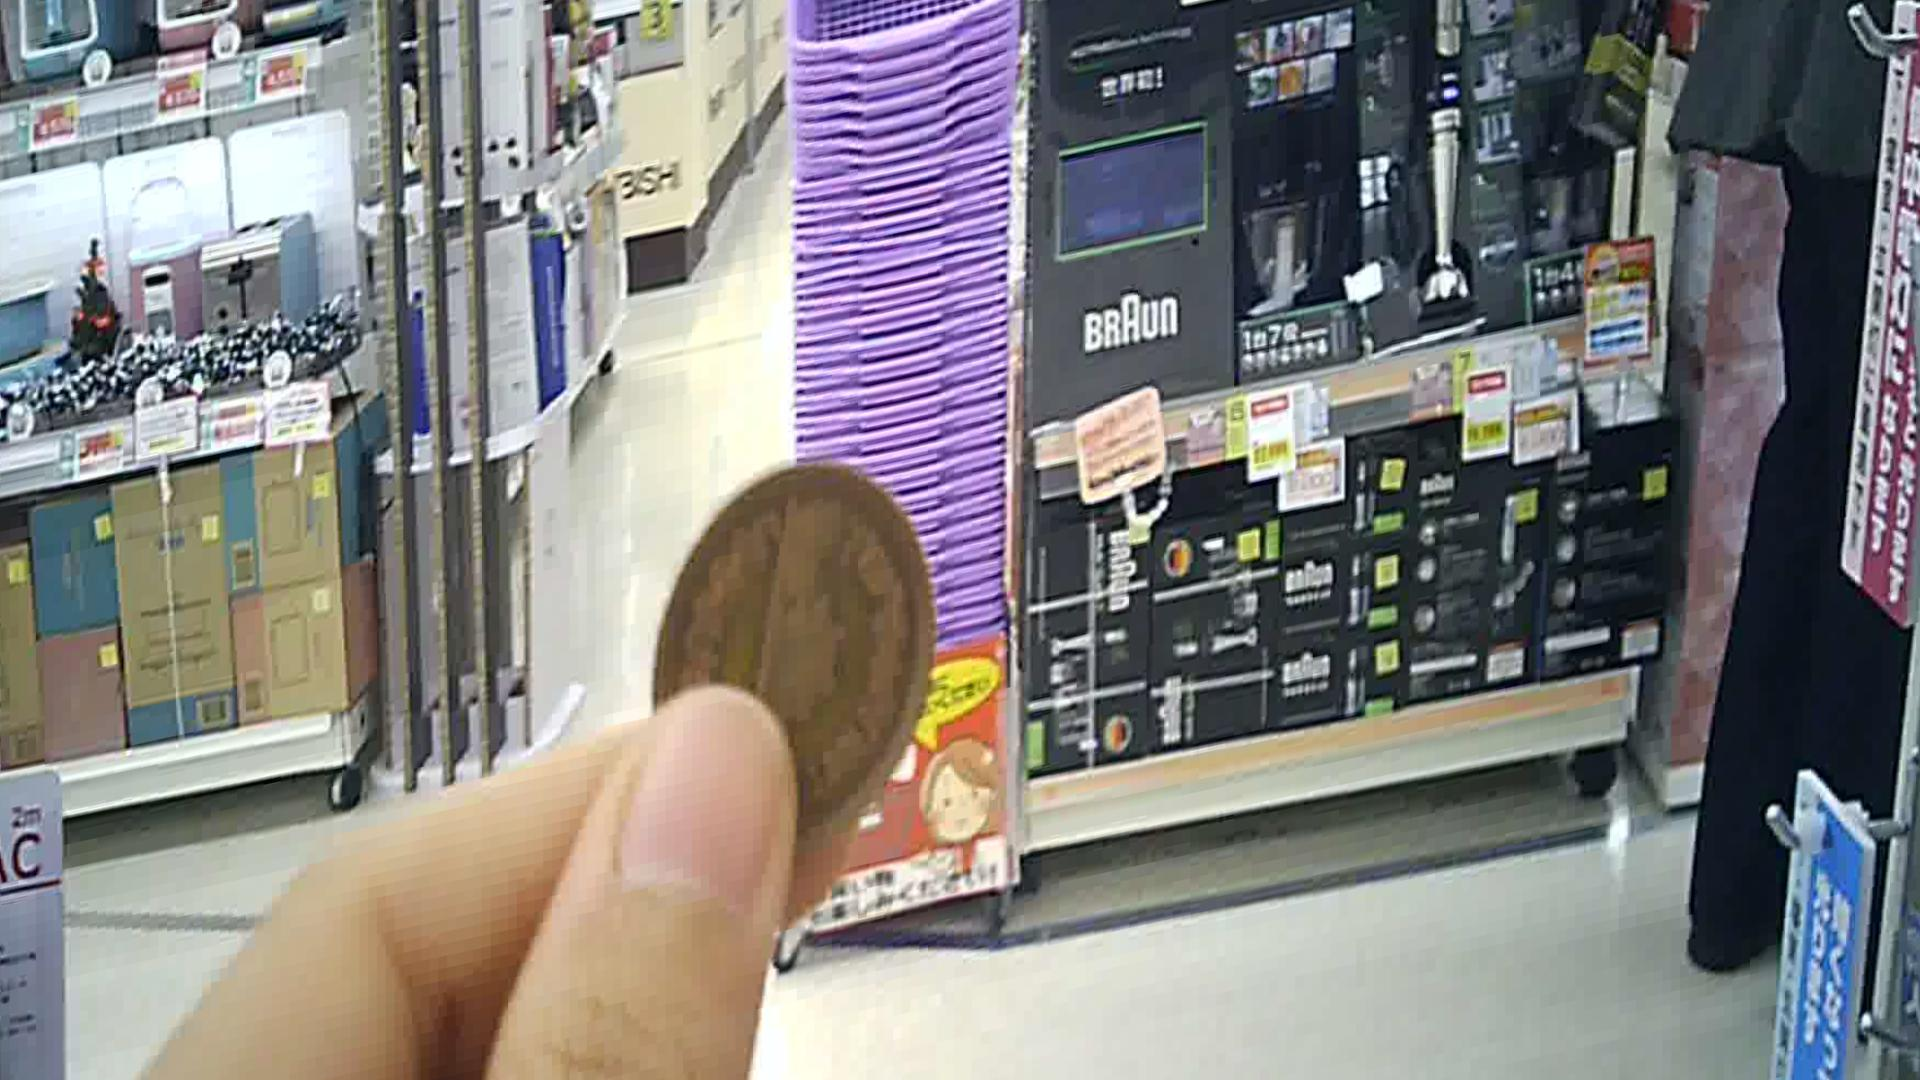10 Yen: (611, 444, 920, 839)
